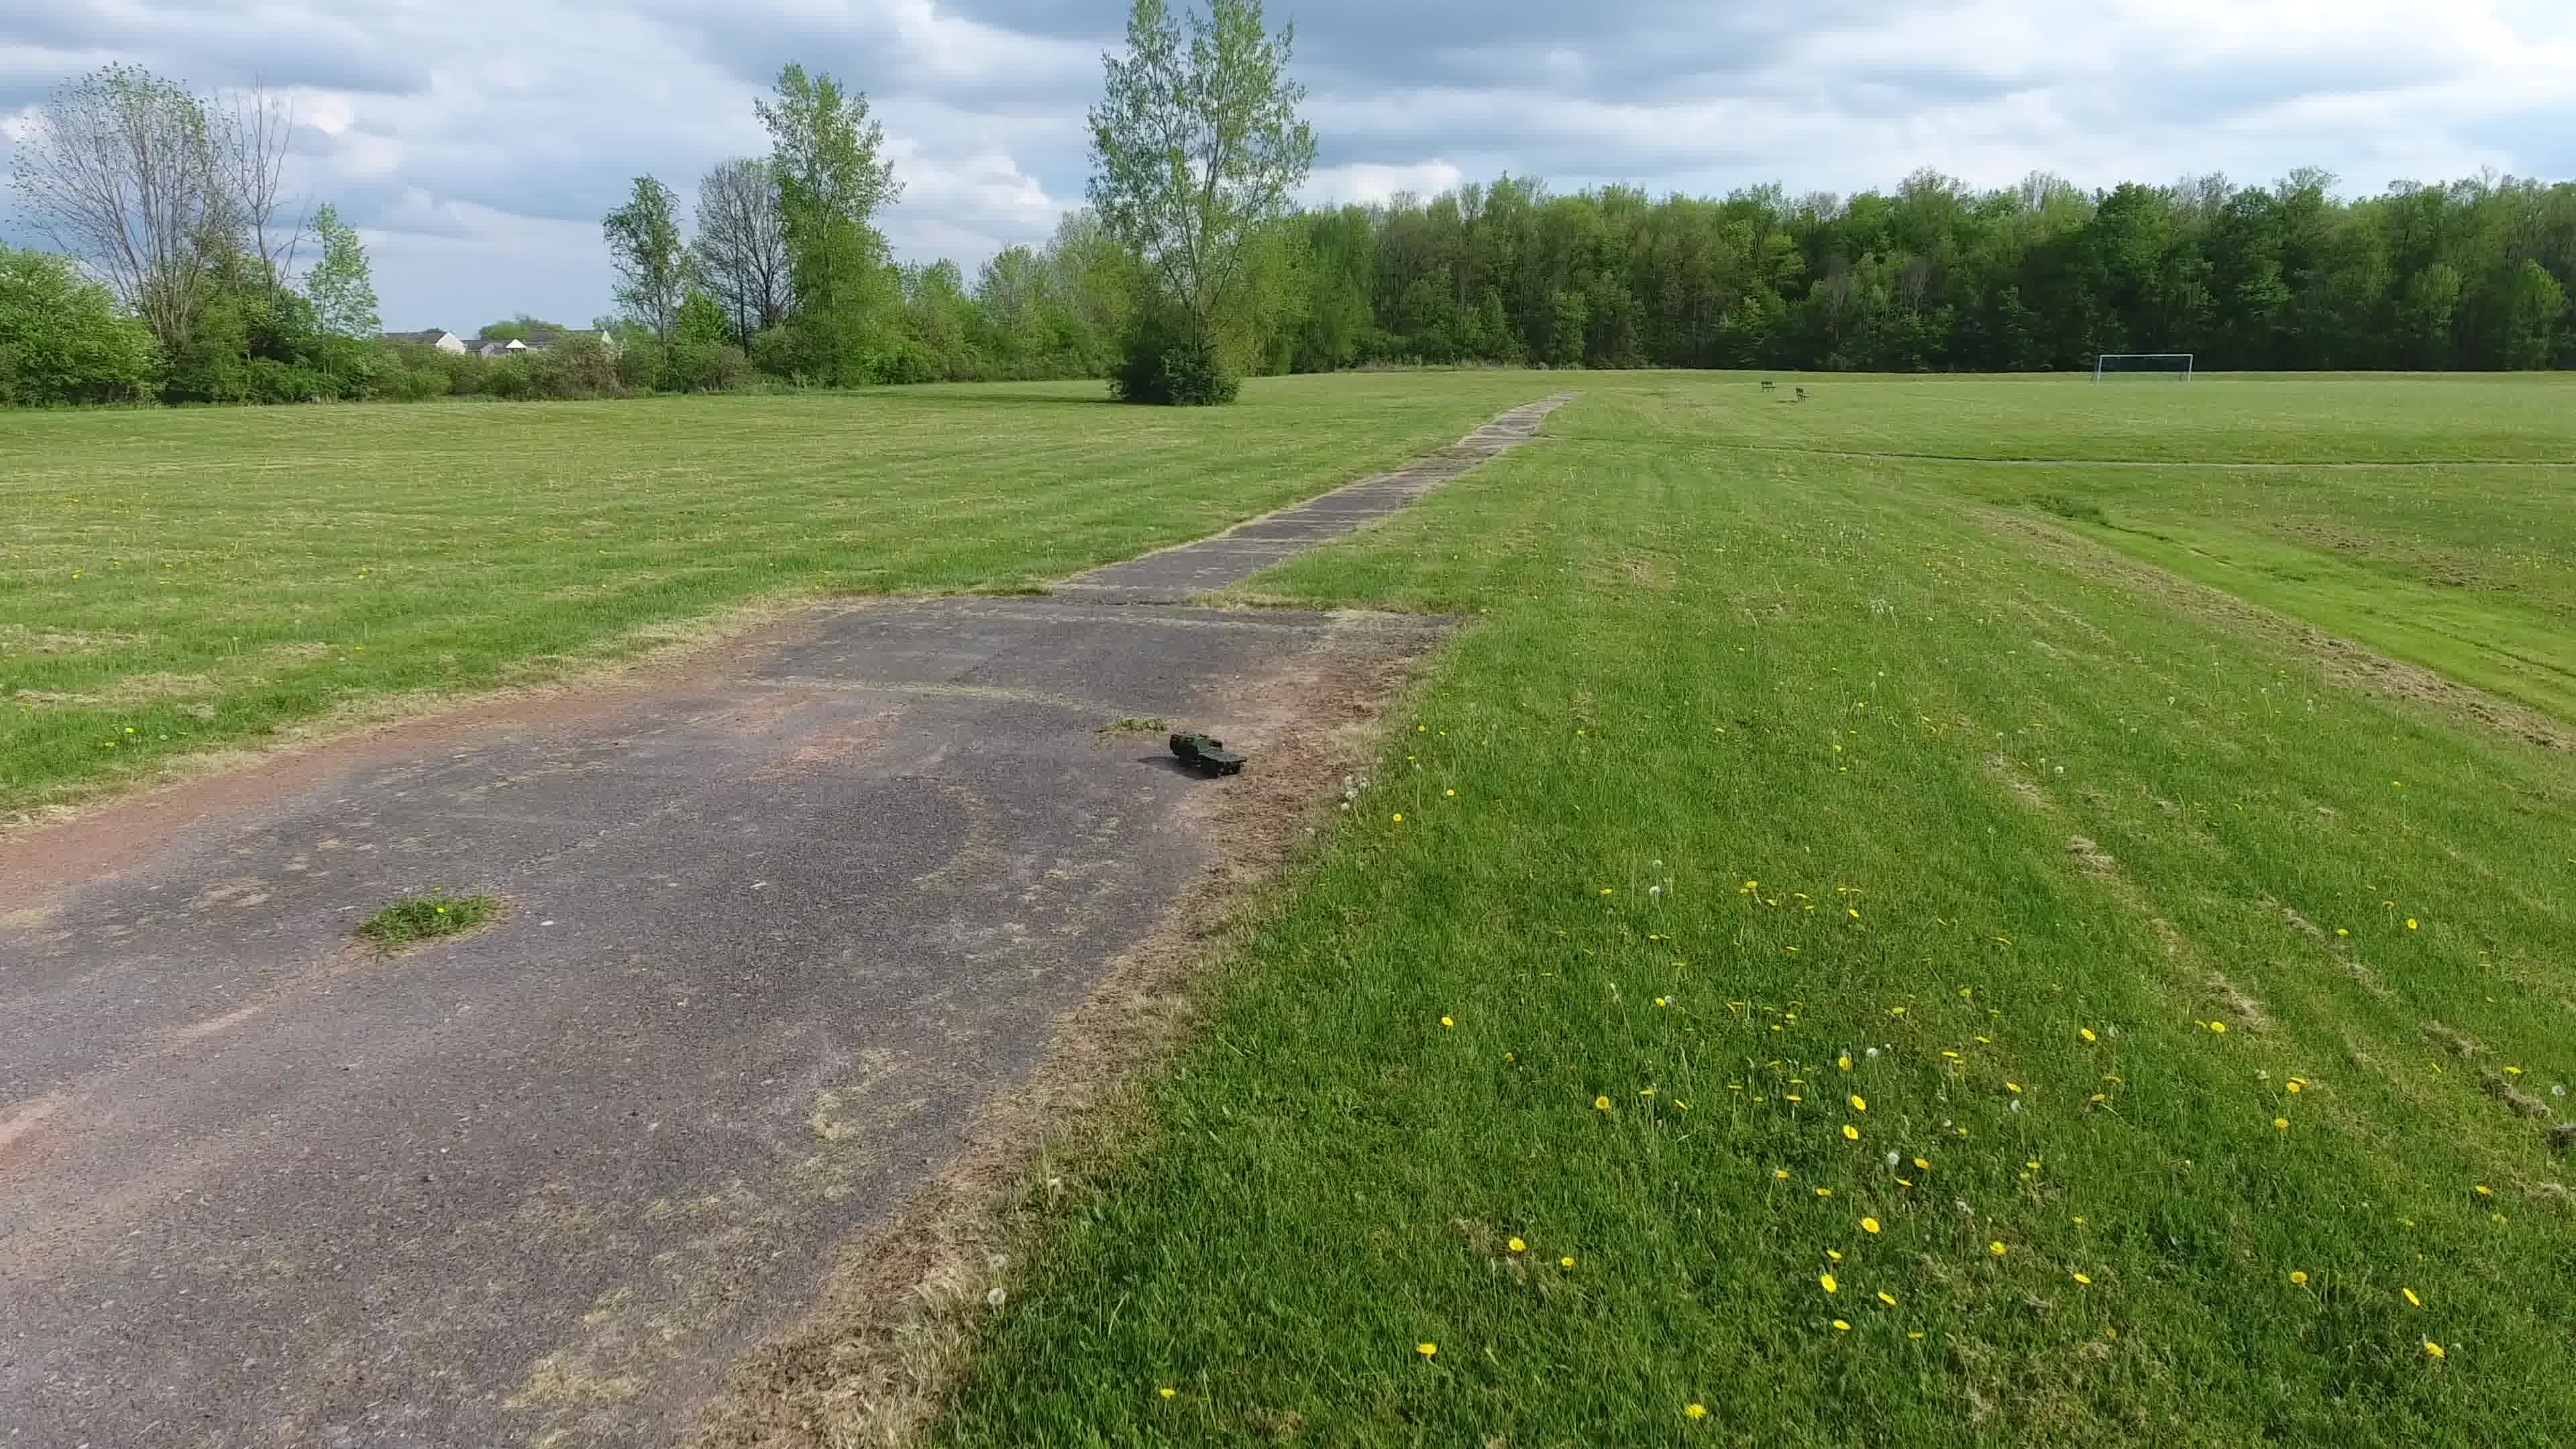transporter9_camo: (1169, 729, 1249, 778)
